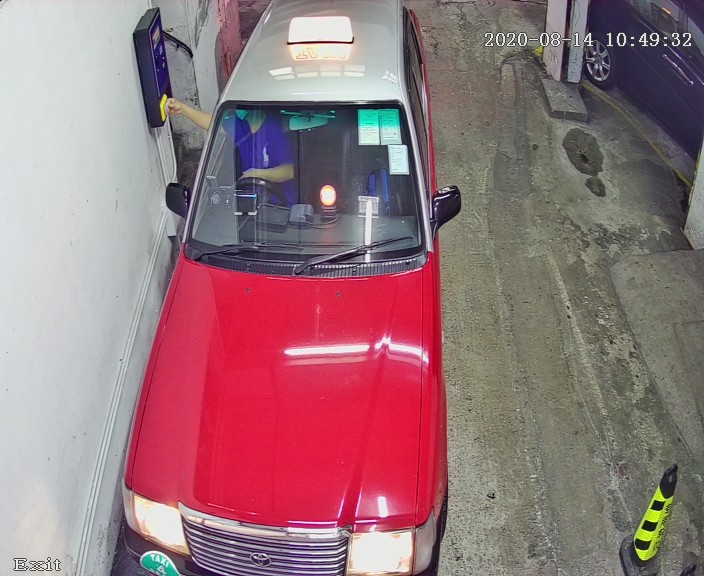taxi: (111, 19, 470, 576)
taxi_mark: (136, 544, 190, 576)
